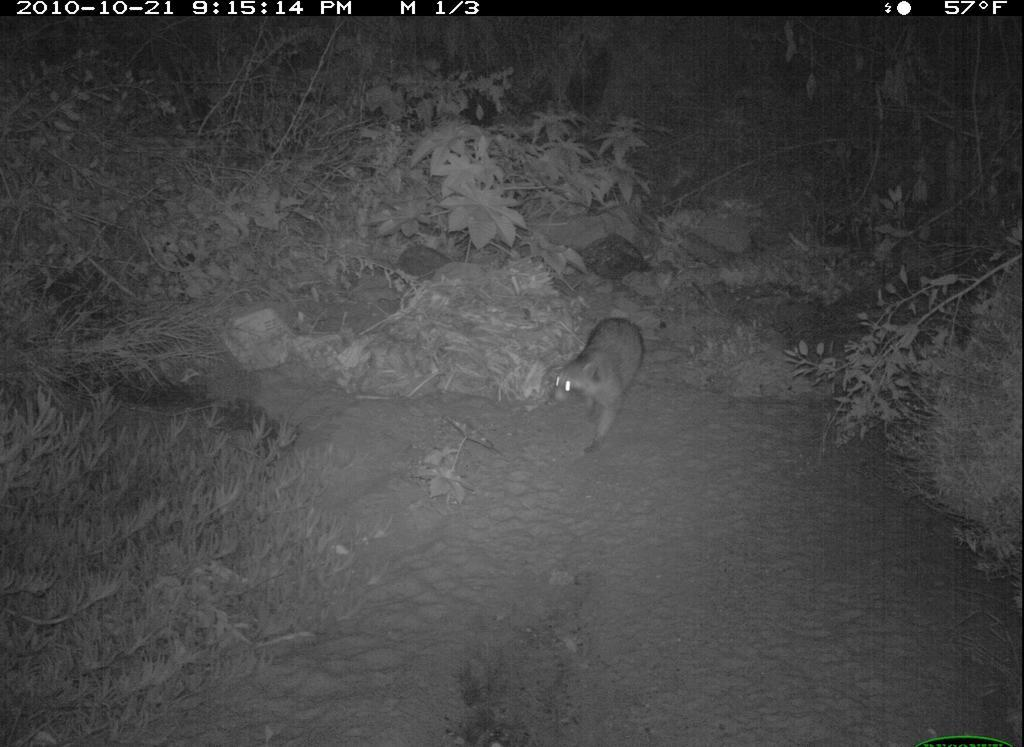raccoon: (543, 314, 647, 456)
